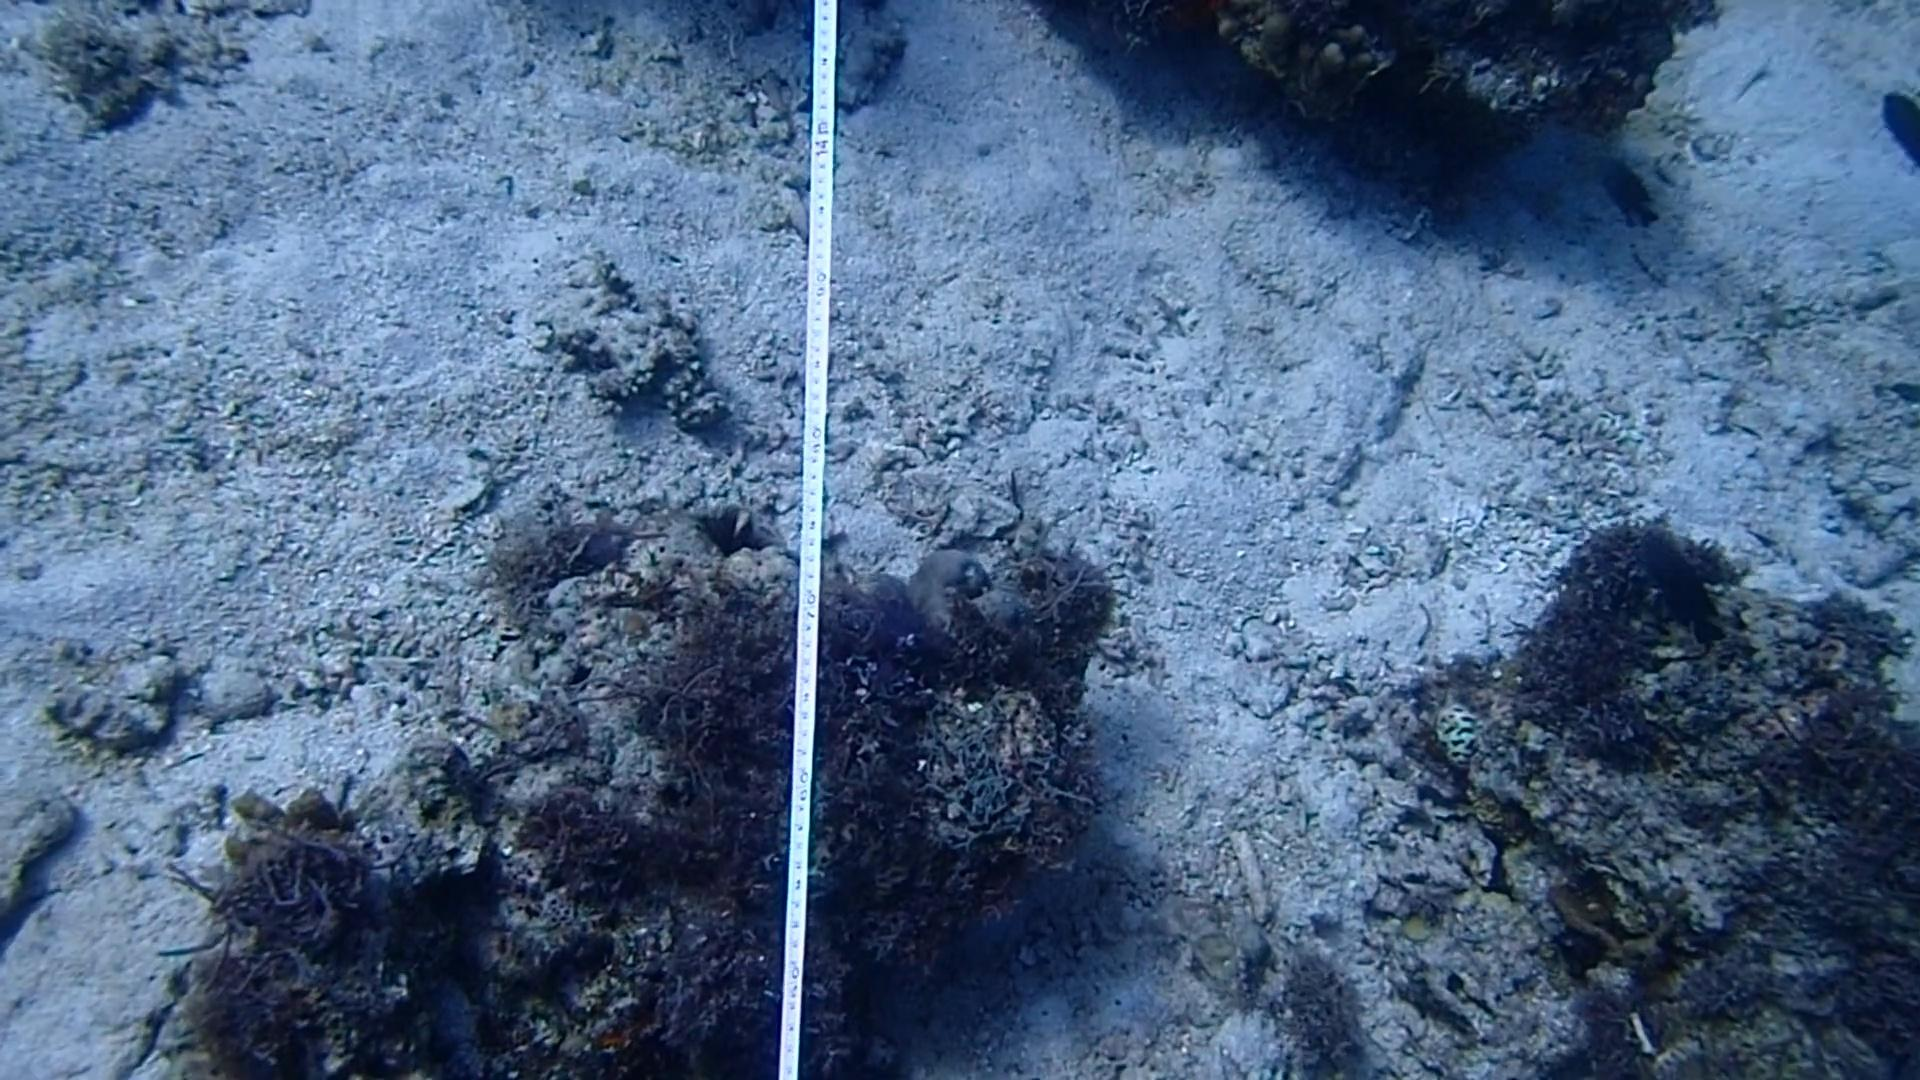Dark Fish: (1626, 518, 1729, 657), (1598, 142, 1656, 235), (1878, 80, 1920, 162)
